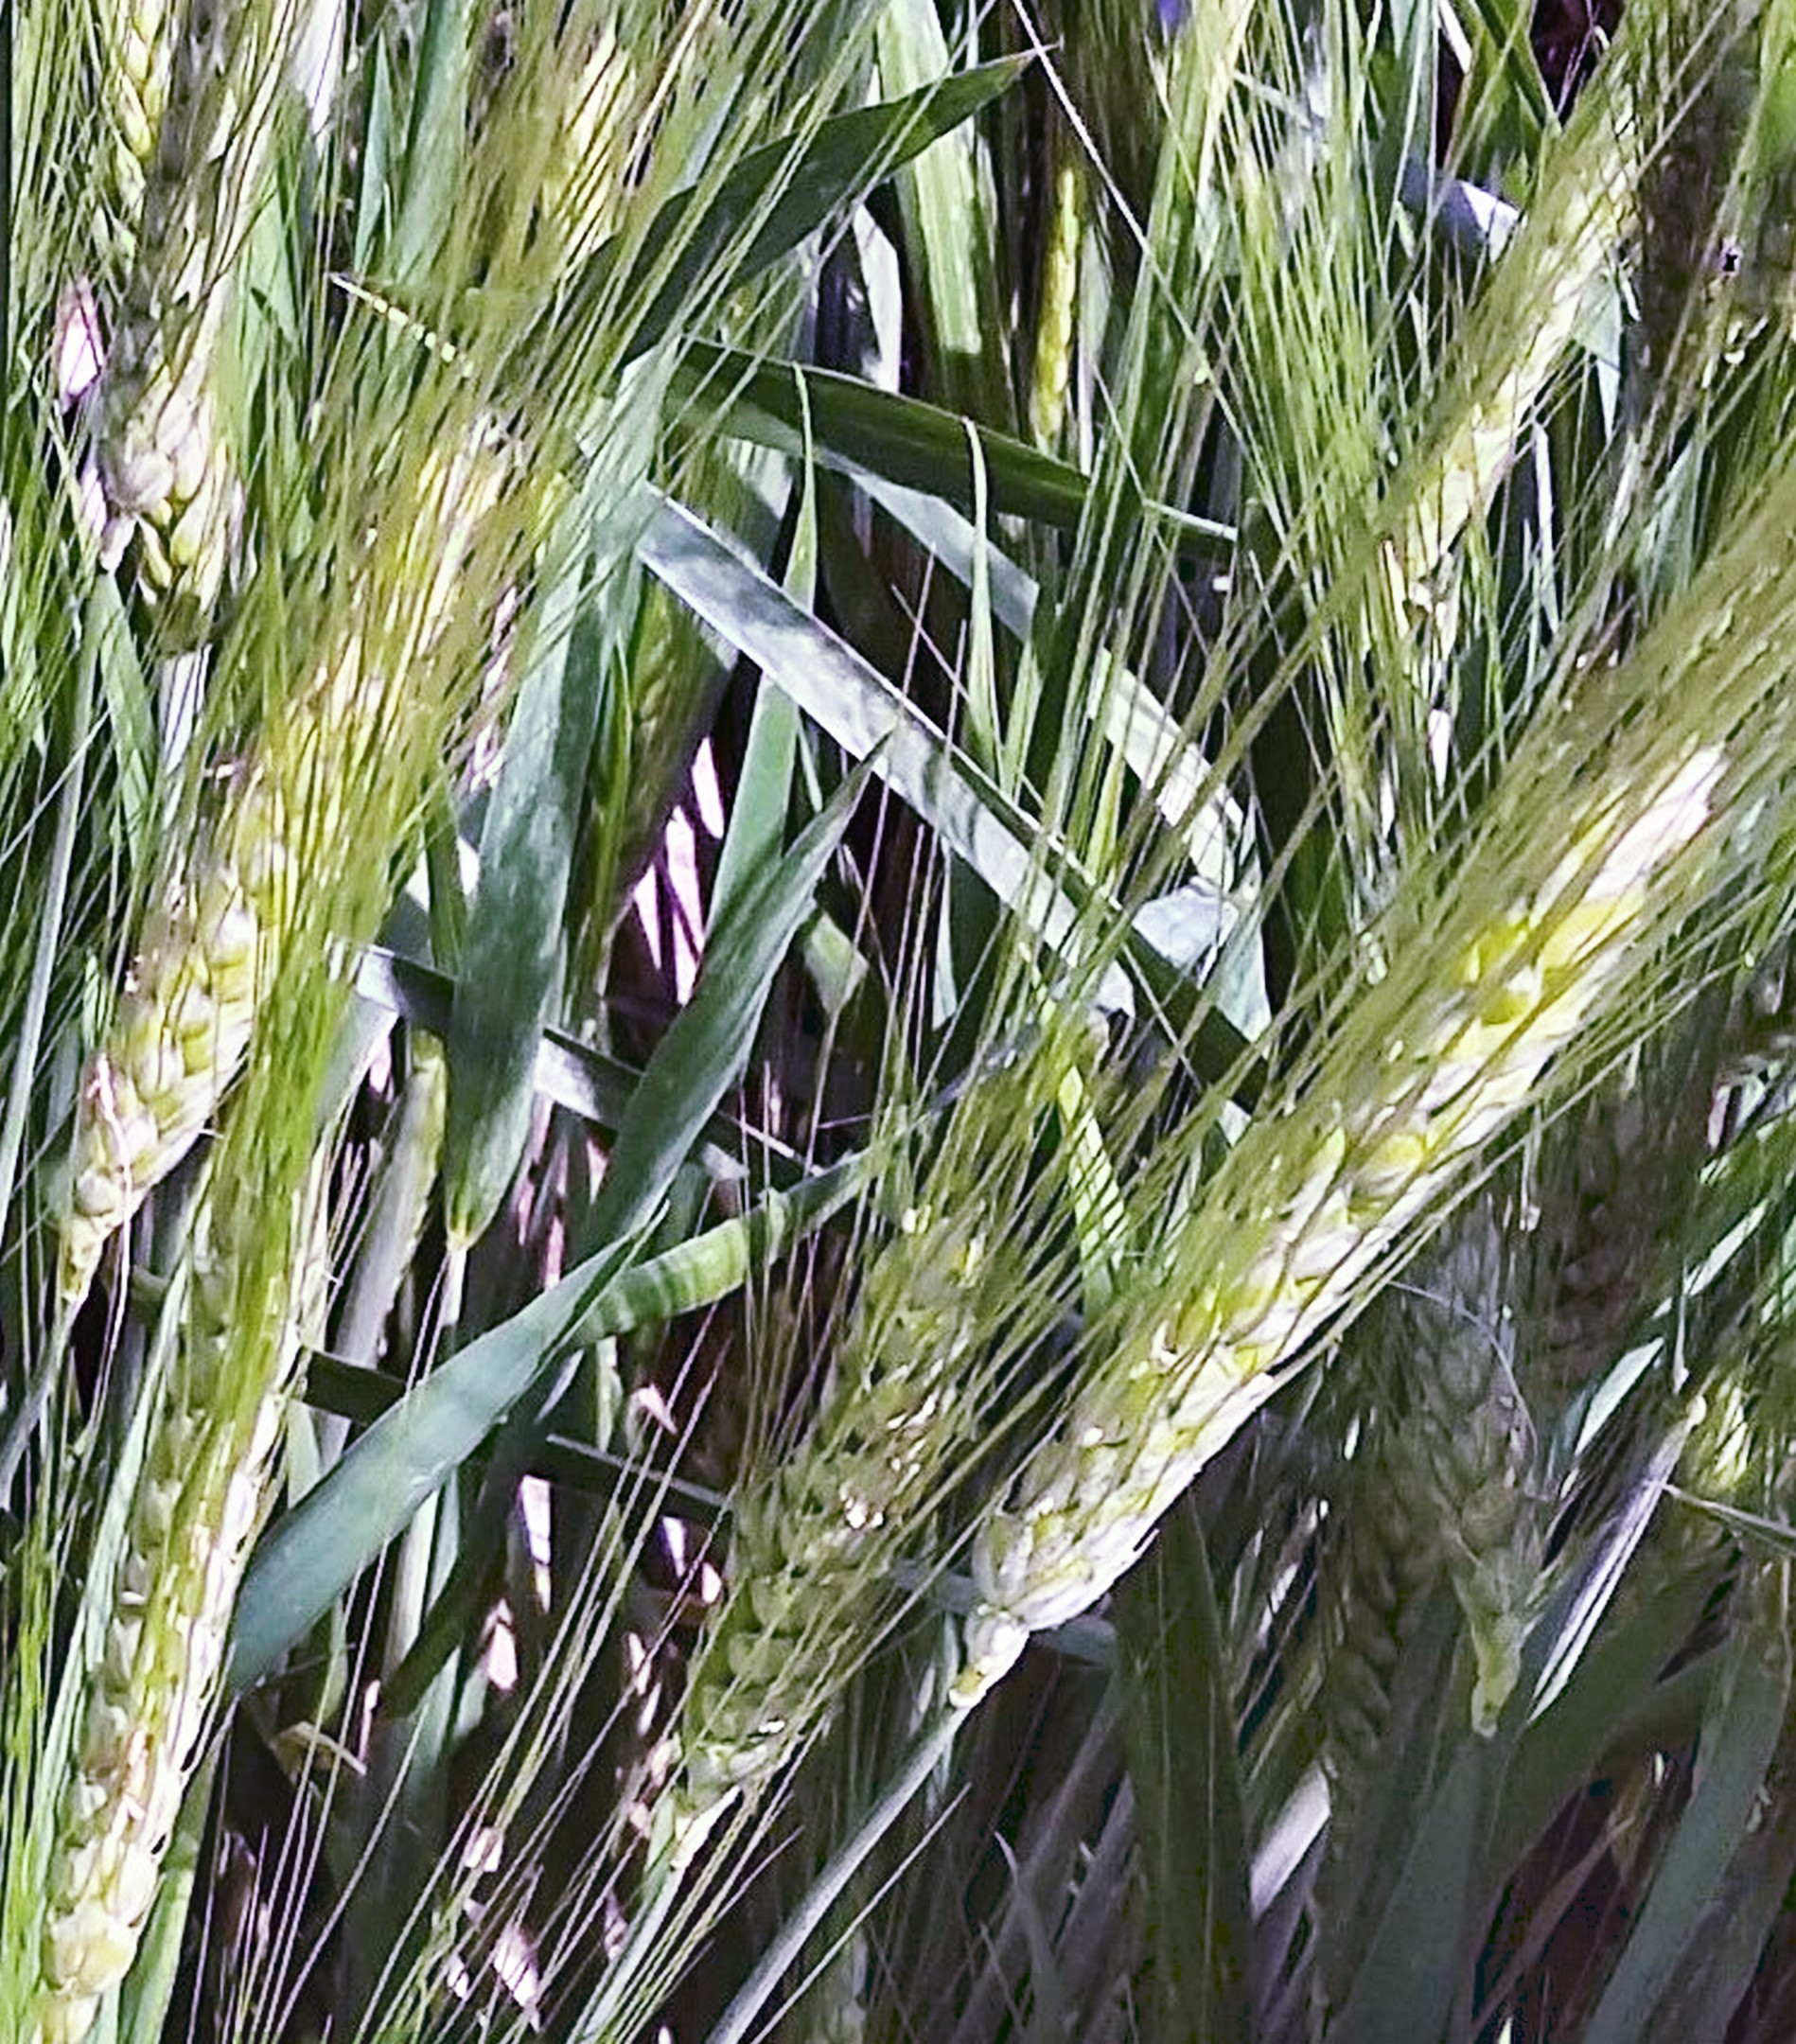Healthy Wheat: (991, 749, 1725, 1609), (42, 450, 534, 1274)
